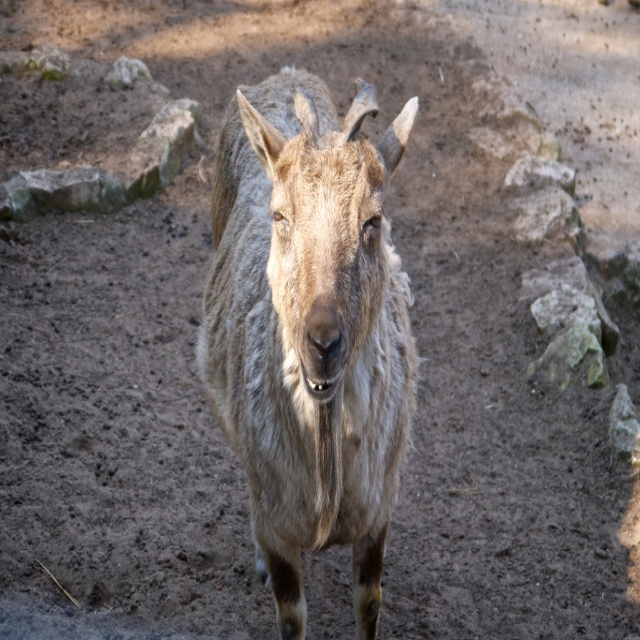Goat: (198, 64, 422, 639)
